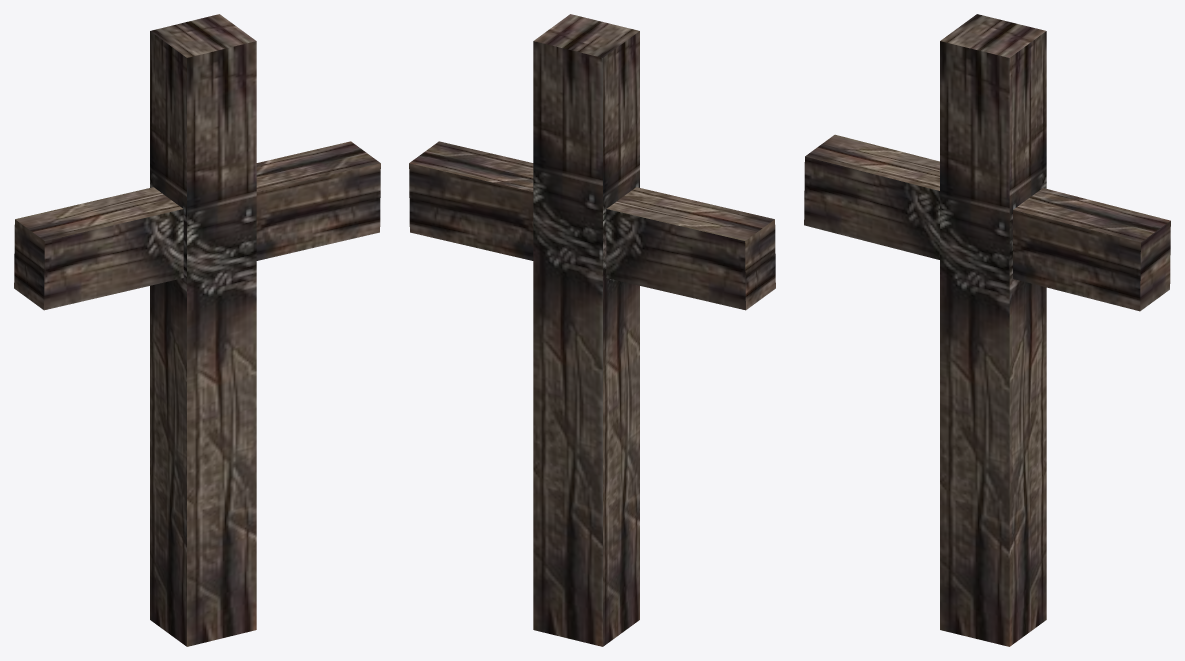
Rendered from cross.fbx.
The picture shows the model from 3 angles, left to right: view 1: azimuth 30°, elevation 25°; view 2: azimuth 150°, elevation 25°; view 3: azimuth 330°, elevation 25°; orthographic projection.
Parts seen in each view (by area): view 1: Cube, Cube.001; view 2: Cube, Cube.001; view 3: Cube, Cube.001.
Part boxes in pixels (left/top/right/bottom): Cube: left=150, top=14, right=256, bottom=646; Cube.001: left=14, top=141, right=380, bottom=310; Cube: left=533, top=14, right=639, bottom=646; Cube.001: left=409, top=141, right=775, bottom=310; Cube: left=940, top=14, right=1046, bottom=646; Cube.001: left=804, top=134, right=1170, bottom=311.
Size of the model in its own units: 274 by 457 by 52.04.
